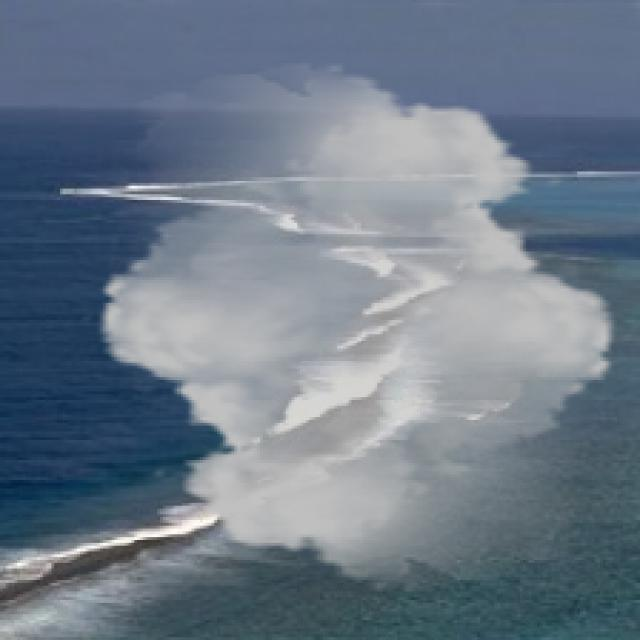smoke: (77, 63, 637, 591)
